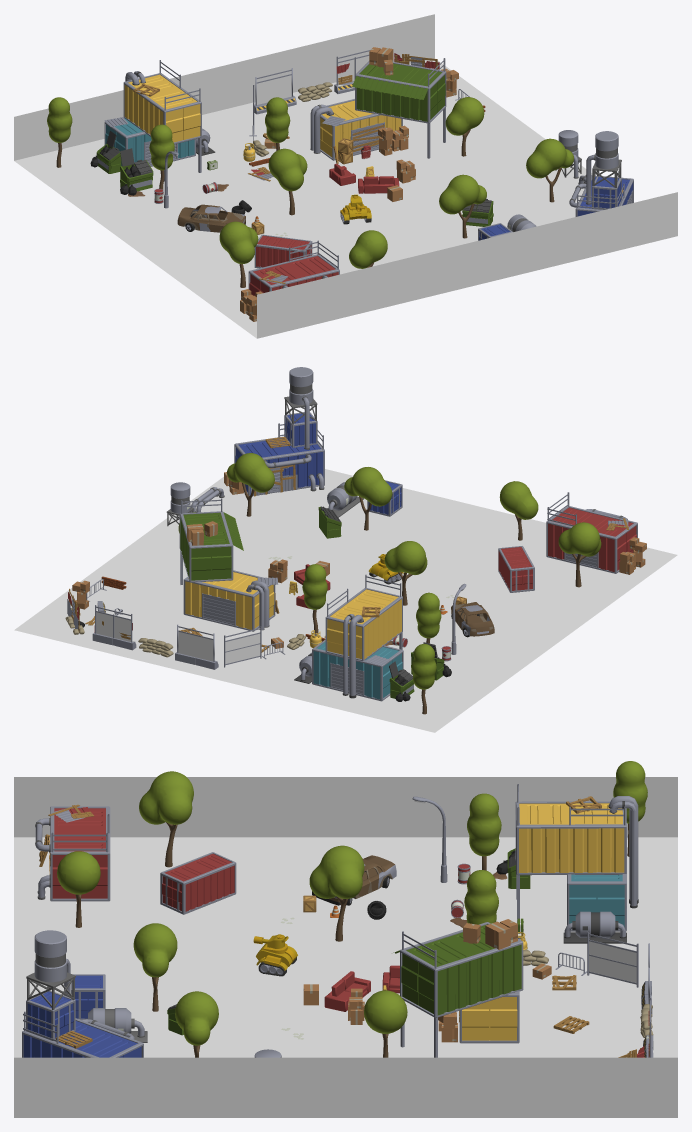
Rendered from Map.glb.
The picture shows the model from 3 angles, top to bottom: view 1: azimuth 30°, elevation 25°; view 2: azimuth 150°, elevation 25°; view 3: azimuth 270°, elevation 25°; orthographic projection. The views are drawn at different scales.
Parts seen in each view (by area): view 1: Plane, Plane.001, Plane.002, Structure_2, Structure_4, Structure_3, Structure_1, Tree_3.001, Tree_3, Container_Long, Tree_1, Tree_1.001 (+13 smaller); view 2: Plane, Structure_4, Structure_2, Structure_3, Structure_1, Tree_3, Tree_3.001, Container_Long, Tree_1, Barrier_Fixed, Barrier_Large, Tree_1.001 (+10 smaller); view 3: Plane, Plane.003, Plane.004, Structure_4, Structure_2, Structure_3, Structure_1, Container_Long, Tree_1, Tree_1.001, Tree_3.001, MetalFence (+13 smaller).
Part boxes in pixels (x1,y1,x2,y2): Plane: (14, 58, 592, 338); Plane.001: (257, 192, 677, 338); Plane.002: (14, 14, 434, 160); Structure_2: (310, 47, 446, 164); Structure_4: (90, 60, 215, 181); Structure_3: (569, 131, 633, 216); Structure_1: (240, 240, 339, 321); Tree_3.001: (439, 174, 486, 238); Tree_3: (526, 138, 573, 202); Container_Long: (254, 234, 312, 268); Tree_1: (219, 221, 258, 287); Tree_1.001: (268, 148, 307, 215); Plane: (14, 469, 677, 732); Structure_4: (294, 574, 414, 701); Structure_2: (179, 498, 279, 631); Structure_3: (224, 367, 324, 496); Structure_1: (546, 492, 646, 574); Tree_3: (227, 453, 274, 516); Tree_3.001: (344, 467, 392, 530); Container_Long: (498, 546, 534, 592); Tree_1: (558, 522, 601, 587); Barrier_Fixed: (92, 605, 136, 650); Barrier_Large: (175, 624, 218, 669); Tree_1.001: (384, 541, 427, 605); Plane: (14, 837, 677, 1057); Plane.003: (14, 1057, 677, 1117); Plane.004: (14, 777, 677, 837); Structure_4: (515, 784, 638, 943); Structure_2: (393, 919, 523, 1057); Structure_3: (22, 930, 143, 1057); Structure_1: (35, 804, 110, 901); Container_Long: (160, 852, 236, 914); Tree_1: (139, 771, 193, 867); Tree_1.001: (309, 845, 364, 941); Tree_3.001: (133, 923, 177, 1011); MetalFence: (587, 931, 638, 987).
Size of the model in its own units: 40 by 9.65 by 40.
